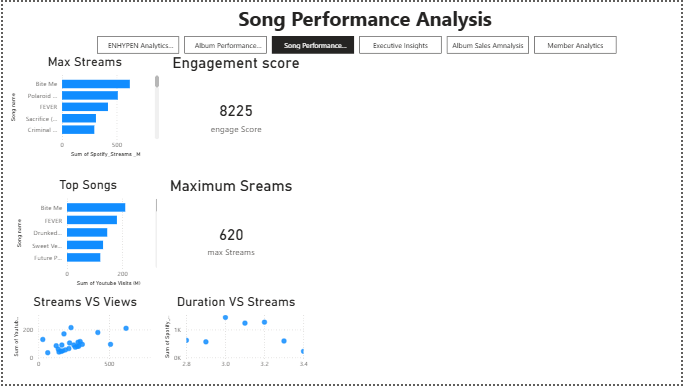

Layout of this report page (visuals, bound fields, positions):
{"tool":"powerbi","page":{"name":"Song Performance analysis","canvas":[1280,720],"ordinal":2},"visuals":[{"type":"clusteredBarChart","title":"Max Streams","fields":{"Category":["Songs.Song name"],"Y":["Sum(Songs.Spotify_Streams _M)"]},"box":[10,98.6,290,198.6],"z":0},{"type":"clusteredBarChart","title":"Top Songs","fields":{"Category":["Songs.Song name"],"Y":["Sum(Songs.Youtube Visits (M))"]},"box":[20,330,280,210],"z":1000},{"type":"scatterChart","title":"Streams VS Views","fields":{"X":["Songs.Spotify_Streams _M"],"Y":["Sum(Songs.Youtube Visits (M))"]},"box":[15.7,550,280,150],"z":2000},{"type":"scatterChart","title":"Duration VS Streams","fields":{"X":["Songs.Duration (Min)"],"Y":["Sum(Songs.Spotify_Streams _M)"]},"box":[300,550,280,150],"z":3000},{"type":"card","title":"Maximum Sreams","fields":{"Values":["Songs.max Streams"]},"box":[290,330,280,200],"z":4000},{"type":"card","title":"Engagement score","fields":{"Values":["Songs.Score"]},"box":[300,98.6,280,198.6],"z":5000},{"type":"textbox","box":[0,0,932.9,64.3],"z":6000},{"type":"pageNavigator","box":[177.2,64.9,980.7,33.3],"z":6001}]}

Visuals, with their boxes in screenshot pixels (x1, y1, x2, y2), scaled from the page's 1280x720 canvas onto the 683x386 screenshot:
"Max Streams" clusteredBarChart: {"left": 5, "top": 53, "right": 160, "bottom": 159}
"Top Songs" clusteredBarChart: {"left": 11, "top": 177, "right": 160, "bottom": 290}
"Streams VS Views" scatterChart: {"left": 8, "top": 295, "right": 158, "bottom": 375}
"Duration VS Streams" scatterChart: {"left": 160, "top": 295, "right": 309, "bottom": 375}
"Maximum Sreams" card: {"left": 155, "top": 177, "right": 304, "bottom": 284}
"Engagement score" card: {"left": 160, "top": 53, "right": 309, "bottom": 159}
textbox: {"left": 0, "top": 0, "right": 498, "bottom": 34}
pageNavigator: {"left": 95, "top": 35, "right": 618, "bottom": 53}
